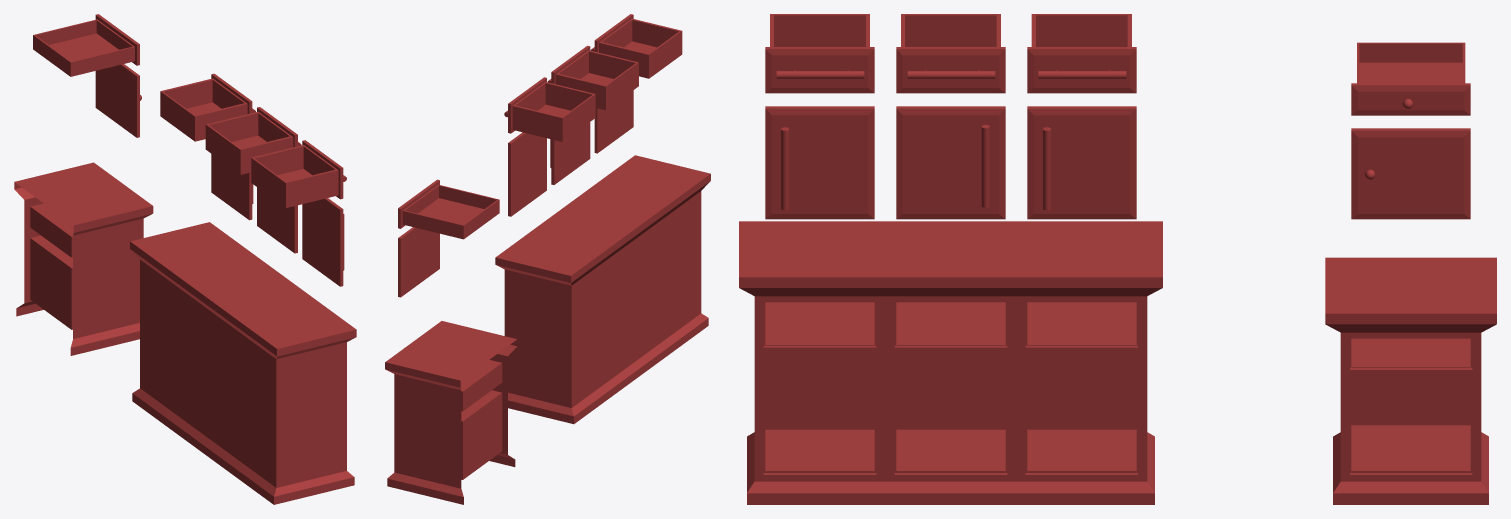
The model's file is mueblesenpar.fbx.
The picture shows the model from 3 angles, left to right: view 1: azimuth 30°, elevation 25°; view 2: azimuth 150°, elevation 25°; view 3: azimuth 270°, elevation 25°; orthographic projection. The views are drawn at different scales.
Parts seen in each view (by area): view 1: cuerpo1, cuerpo, cajon_3, cajon, cajon_2, cajon_1, puerta_3, puerta, puerta_1, puerta_2; view 2: cuerpo1, cuerpo, cajon_1, cajon, cajon_3, cajon_2, puerta_1, puerta, puerta_2, puerta_3; view 3: cuerpo1, cuerpo, puerta_1, puerta_2, puerta_3, puerta, cajon_1, cajon_2, cajon_3, cajon.
Part boxes in pixels (x1,y1,x2,y2): cuerpo1: (130,222,356,504); cuerpo: (14,162,153,355); cajon_3: (251,140,346,207); cajon: (33,14,139,76); cajon_2: (205,107,301,174); cajon_1: (160,73,255,141); puerta_3: (302,198,344,286); puerta: (95,64,141,137); puerta_1: (211,154,253,220); puerta_2: (257,187,297,253); cuerpo1: (495,155,710,424); cuerpo: (385,321,517,504); cajon_1: (504,77,595,141); cajon: (398,179,499,239); cajon_3: (590,14,682,78); cajon_2: (547,45,638,110); puerta_1: (508,132,546,216); puerta: (398,227,439,297); puerta_2: (550,122,590,184); puerta_3: (594,90,633,153); cuerpo1: (739,221,1162,504); cuerpo: (1325,257,1496,504); puerta_1: (1027,106,1136,219); puerta_2: (896,106,1005,219); puerta_3: (765,106,874,219); puerta: (1351,128,1470,219); cajon_1: (1027,14,1136,93); cajon_2: (896,14,1005,93); cajon_3: (765,14,874,93); cajon: (1351,42,1470,115).
Size of the model in its own units: 0.8329 by 2.98 by 4.53.
